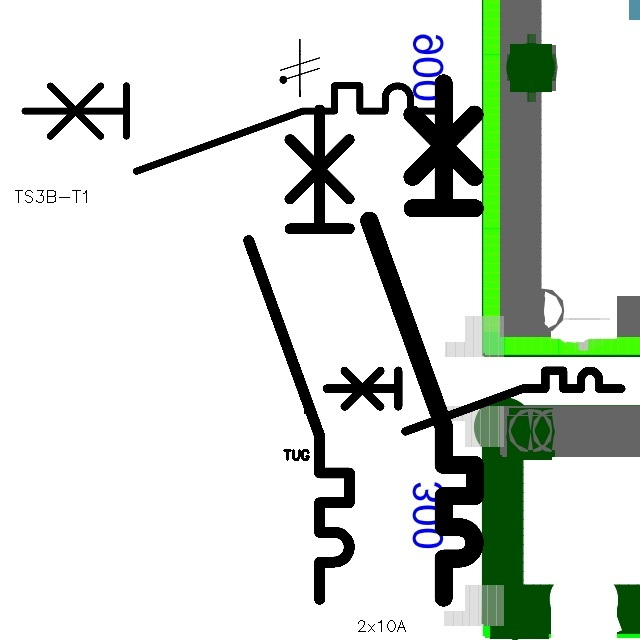interruptor_termomagnetico: (356, 70, 488, 611), (236, 97, 362, 612), (14, 75, 453, 182), (319, 363, 629, 438)
